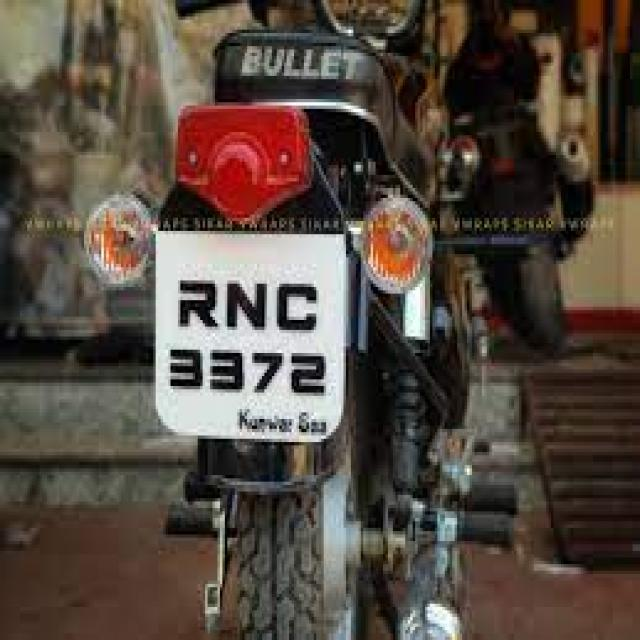number plate: (151, 221, 348, 442)
